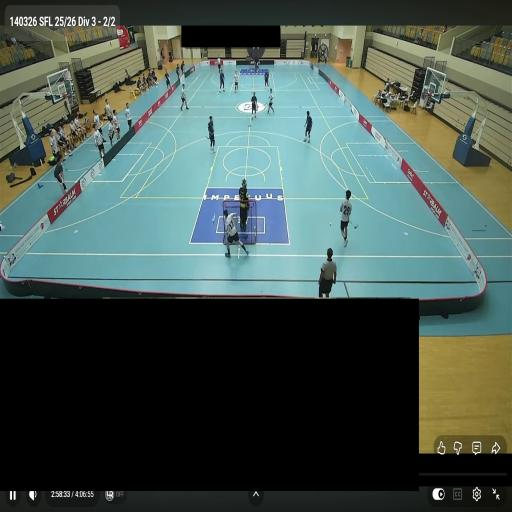Goalkeeper: (239, 178, 249, 230), (255, 57, 259, 71)
Player: (224, 209, 248, 257), (340, 190, 352, 247), (303, 111, 312, 143), (208, 116, 214, 152), (180, 84, 188, 110), (251, 92, 258, 119), (267, 87, 274, 113), (219, 69, 225, 93), (234, 71, 239, 93), (264, 70, 269, 87)
Referee: (318, 248, 337, 297), (217, 56, 221, 73)
